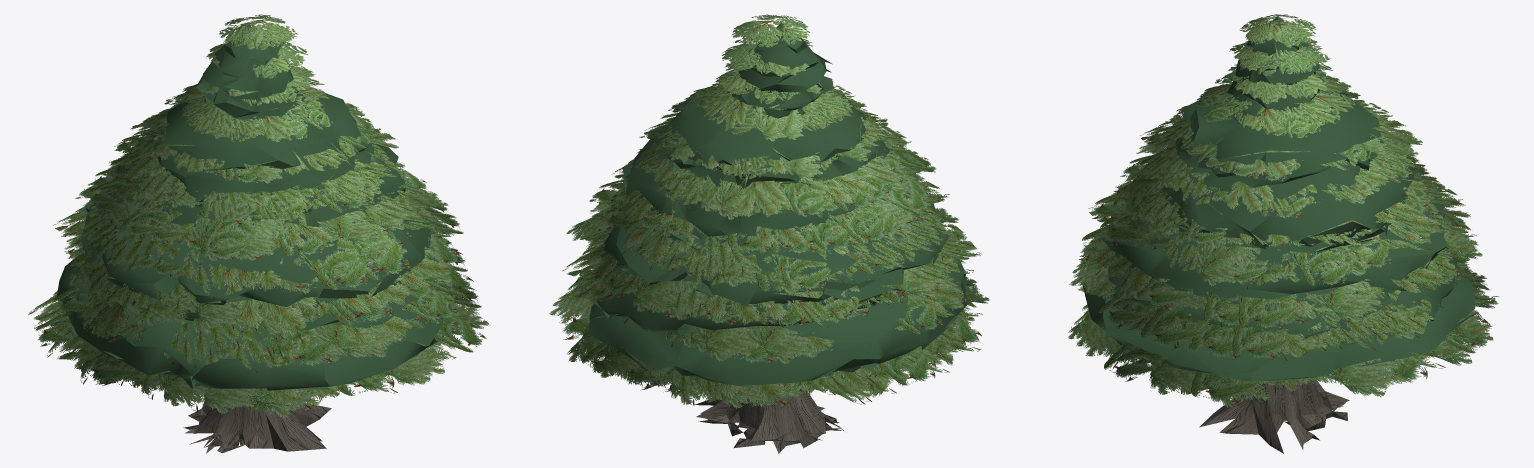
The model's file is tree_spruce_1.glb.
The picture shows the model from 3 angles, left to right: view 1: azimuth 30°, elevation 25°; view 2: azimuth 150°, elevation 25°; view 3: azimuth 270°, elevation 25°; orthographic projection. The views are drawn at different scales.
Visible parts, largest first — view 1: Leaves, CrownCore, Trunk; view 2: Leaves, CrownCore, Trunk; view 3: Leaves, CrownCore, Trunk.
Boxes of the visible parts, x1,y1,x2,y2 form: Leaves: [28, 14, 489, 418]; CrownCore: [56, 24, 453, 390]; Trunk: [183, 400, 331, 453]; Leaves: [549, 14, 989, 411]; CrownCore: [588, 23, 967, 385]; Trunk: [694, 387, 843, 453]; Leaves: [1068, 14, 1498, 407]; CrownCore: [1082, 16, 1476, 380]; Trunk: [1199, 378, 1349, 453].
Bounding box in the file's own units: 5.99 × 5.47 × 5.94.
Materials: 3 (2 with a texture image).
